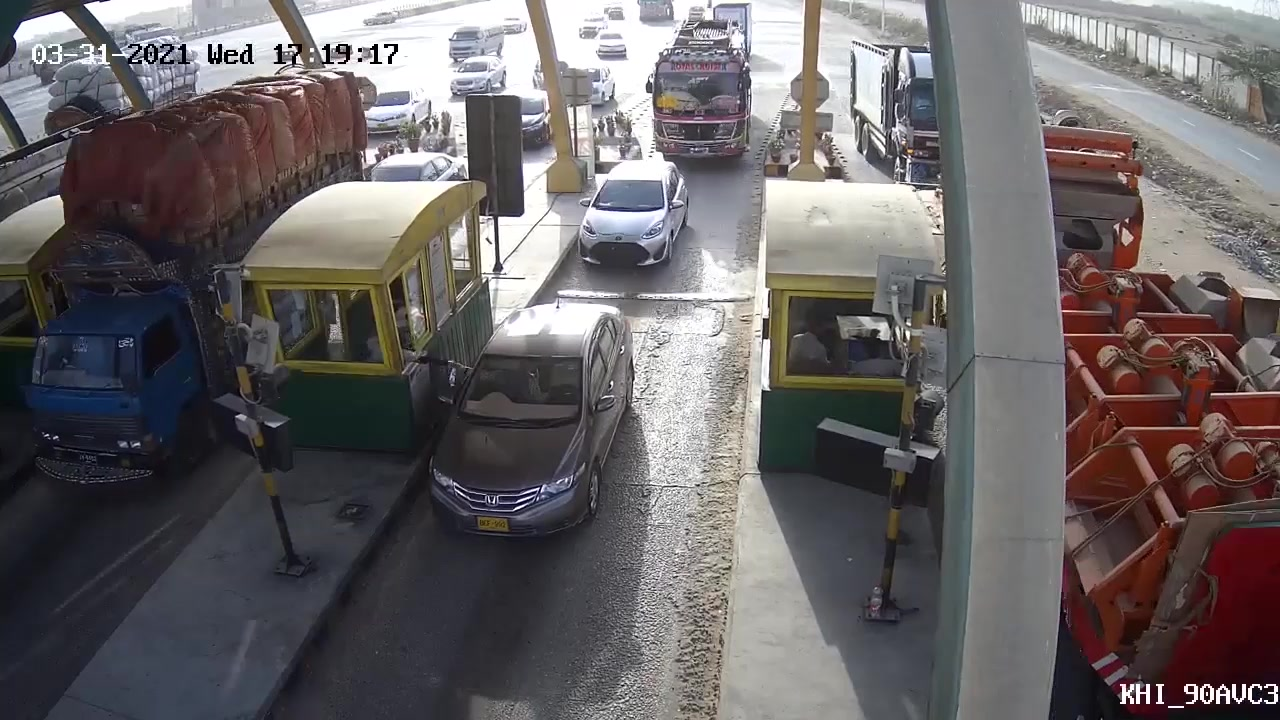F1: (417, 294, 641, 551), (571, 154, 690, 272)
